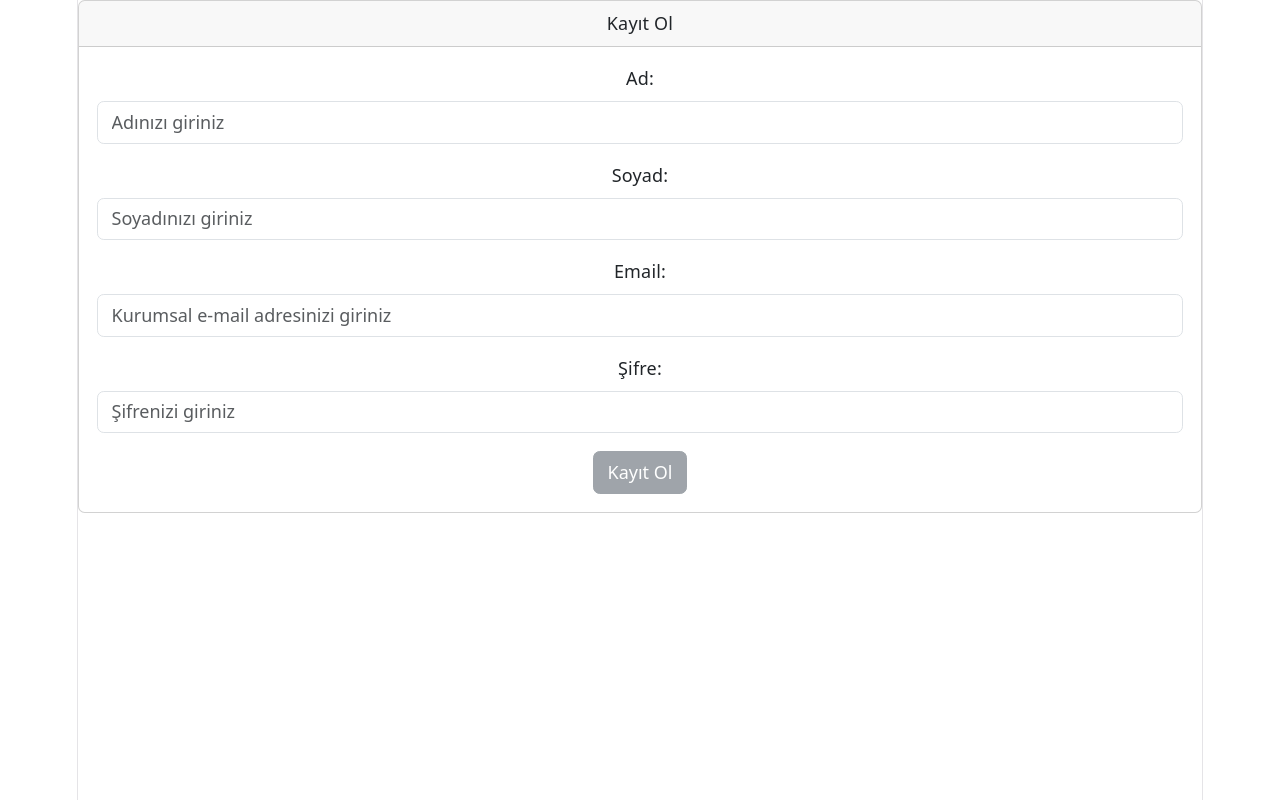
Register Page › Error Messages › Surname input throws error for 2 chars
Type "İl" into the field with test id "soyad-input".
click(640, 220); type("İl")  # box x1=97 y1=198 x2=1183 y2=241
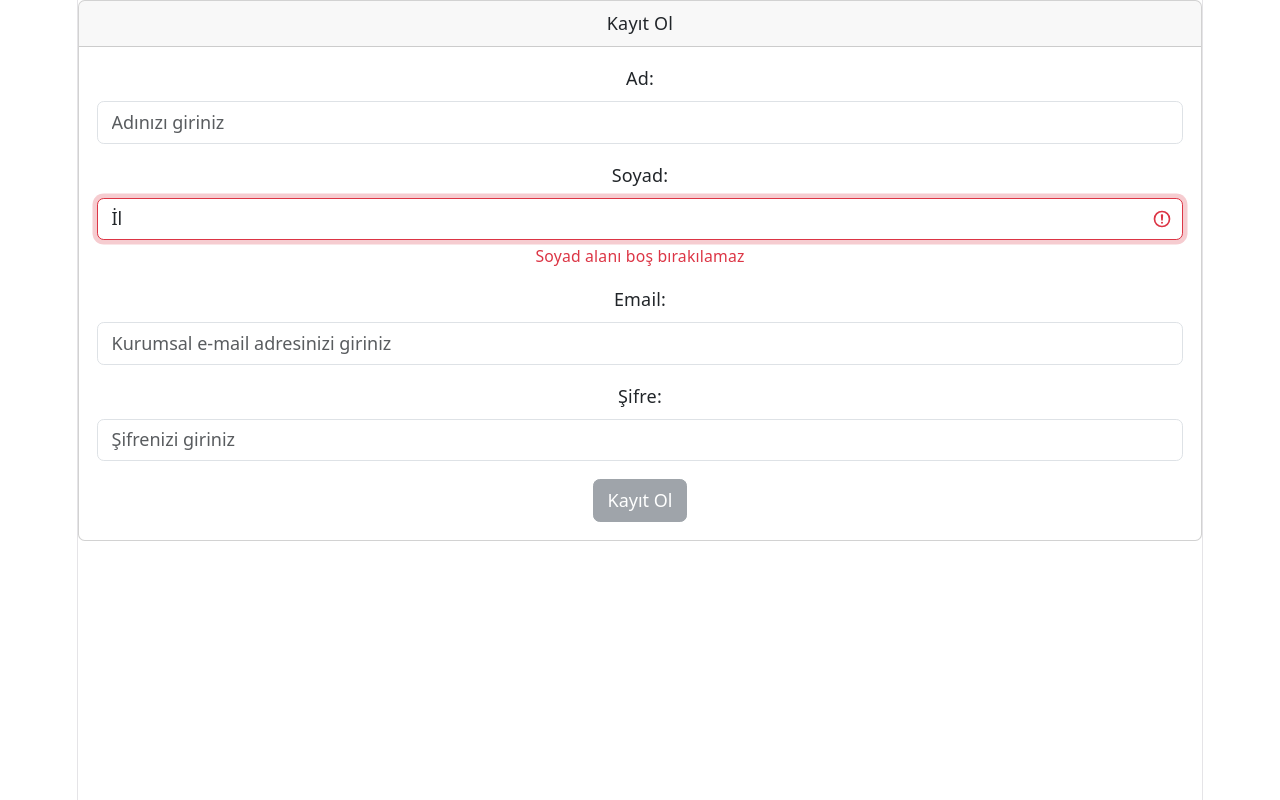
Result: the text "Soyad alanı boş bırakılamaz" is shown at x1=536 y1=244 x2=744 y2=266
